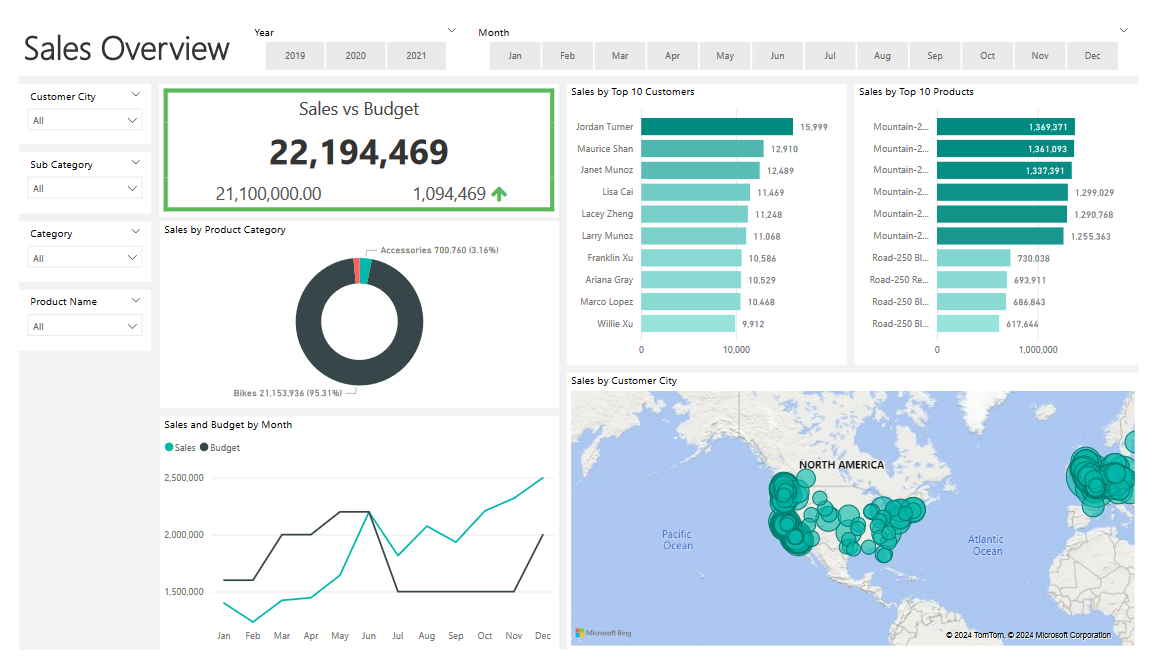

The dashboard page shown, as its layout file describes it:
{"tool":"powerbi","page":{"name":"Sales Overview","canvas":[1280,720],"ordinal":0},"visuals":[{"type":"textbox","box":[0,0,1280,64],"z":0},{"type":"slicer","fields":{"Values":["DIM_Calendar.Year"]},"box":[256,0,256,64],"z":1000},{"type":"slicer","fields":{"Values":["DIM_Calendar.MonthShort"]},"box":[512,0,768,64],"z":2000},{"type":"slicer","fields":{"Values":["DIM_Customers.Customer City"]},"box":[0,73,150.5,69.3],"z":3000},{"type":"slicer","fields":{"Values":["DIM_Products.Product Category"]},"box":[0,229.9,150.5,69.3],"z":4000},{"type":"slicer","fields":{"Values":["DIM_Products.Product Name"]},"box":[0,308.4,150.5,69.3],"z":5000},{"type":"slicer","fields":{"Values":["DIM_Products.Sub Category"]},"box":[0,151.4,150.5,69.3],"z":6000},{"type":"barChart","title":"Sales by Top 10 Products","fields":{"Category":["DIM_Products.Product Name"],"Y":["Analysis Metrics.Sales"]},"box":[955.2,73,324.8,321.1],"z":7000},{"type":"lineChart","fields":{"Category":["DIM_Calendar.MonthShort"],"Y":["Analysis Metrics.Sales","Analysis Metrics.Budget"]},"box":[160.7,452.8,456.3,267.2],"z":8000},{"type":"barChart","title":"Sales by Top 10 Customers","fields":{"Category":["DIM_Customers.Full Name"],"Y":["Analysis Metrics.Sales"]},"box":[625.9,73,320.2,321.1],"z":9000},{"type":"donutChart","fields":{"Y":["Analysis Metrics.Sales"],"Series":["DIM_Products.Product Category"]},"box":[160.6,229.9,456.2,213.5],"z":10000},{"type":"map","fields":{"Category":["DIM_Customers.Customer City"],"Size":["Analysis Metrics.Sales"]},"box":[625.9,403.3,654.1,316.6],"z":12000},{"type":"BBED0A4D4D8D44CE93CF2DAFADEE466C","fields":{"actual":["Analysis Metrics.Sales"],"target2":["Analysis Metrics.Sales / Budget"],"target1":["Analysis Metrics.Budget"]},"box":[160.5,73.4,456.6,151.3],"z":13001}]}

Visuals, with their boxes on the page's 1280x720 design canvas (x1, y1, x2, y2). These are canvas units, not pixel positions in the 1157x672 screenshot, which may show the page scaled, cropped or inside an application window:
textbox: region(0, 0, 1280, 64)
slicer - DIM_Calendar.Year: region(256, 0, 512, 64)
slicer - DIM_Calendar.MonthShort: region(512, 0, 1280, 64)
slicer - DIM_Customers.Customer City: region(0, 73, 150, 142)
slicer - DIM_Products.Product Category: region(0, 230, 150, 299)
slicer - DIM_Products.Product Name: region(0, 308, 150, 378)
slicer - DIM_Products.Sub Category: region(0, 151, 150, 221)
"Sales by Top 10 Products" barChart: region(955, 73, 1280, 394)
lineChart - DIM_Calendar.MonthShort x Analysis Metrics.Sales: region(161, 453, 617, 720)
"Sales by Top 10 Customers" barChart: region(626, 73, 946, 394)
donutChart - Analysis Metrics.Sales x DIM_Products.Product Category: region(161, 230, 617, 443)
map - DIM_Customers.Customer City x Analysis Metrics.Sales: region(626, 403, 1280, 720)
BBED0A4D4D8D44CE93CF2DAFADEE466C - Analysis Metrics.Sales x Analysis Metrics.Sales / Budget: region(160, 73, 617, 225)
